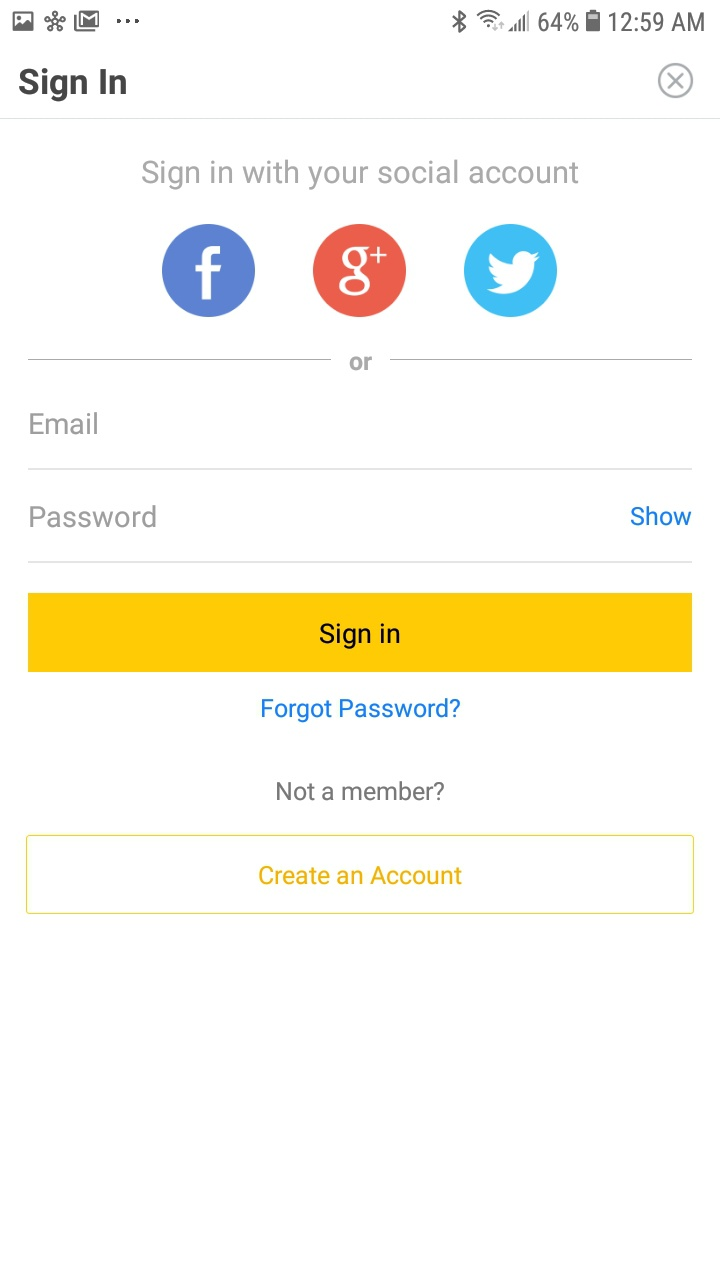EditText: (28, 505, 693, 564), (28, 412, 693, 471)
Icon: (162, 224, 256, 318), (313, 224, 407, 318), (464, 224, 558, 318), (657, 64, 693, 100)
Text: (142, 159, 579, 191), (262, 697, 461, 723), (19, 68, 127, 103), (277, 780, 445, 801), (30, 505, 157, 529), (30, 412, 98, 436), (630, 506, 692, 527), (350, 356, 373, 372)
TextButton: (26, 835, 694, 915), (28, 593, 692, 673)
UpperTaskBar: (1, 1, 720, 35)
